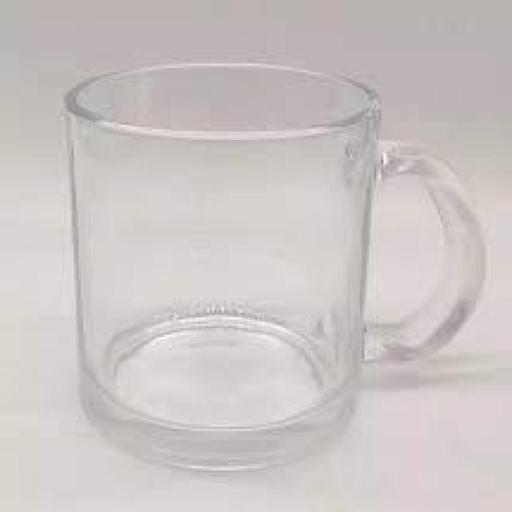glass: (41, 49, 494, 491)
